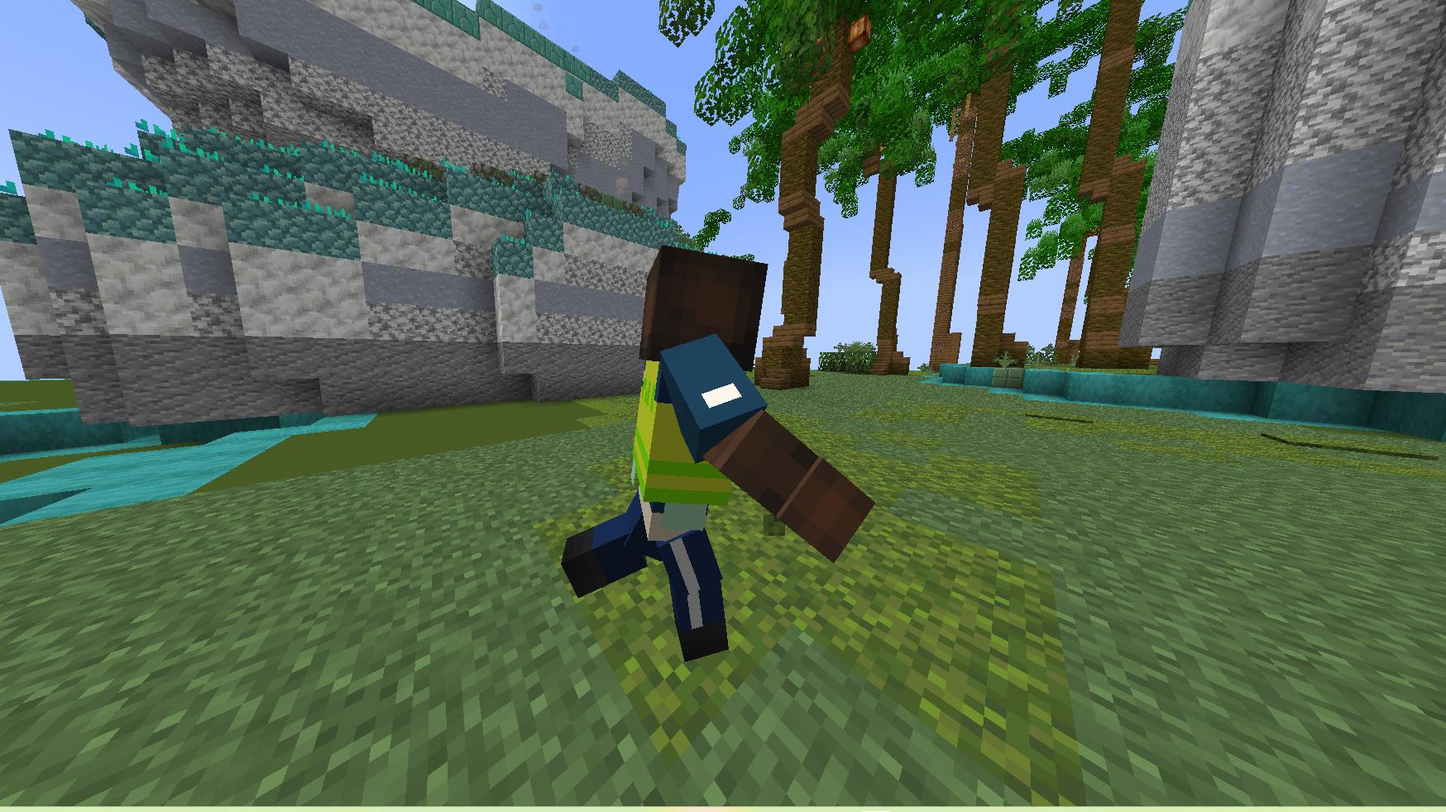Guardian: (561, 246, 872, 661)
